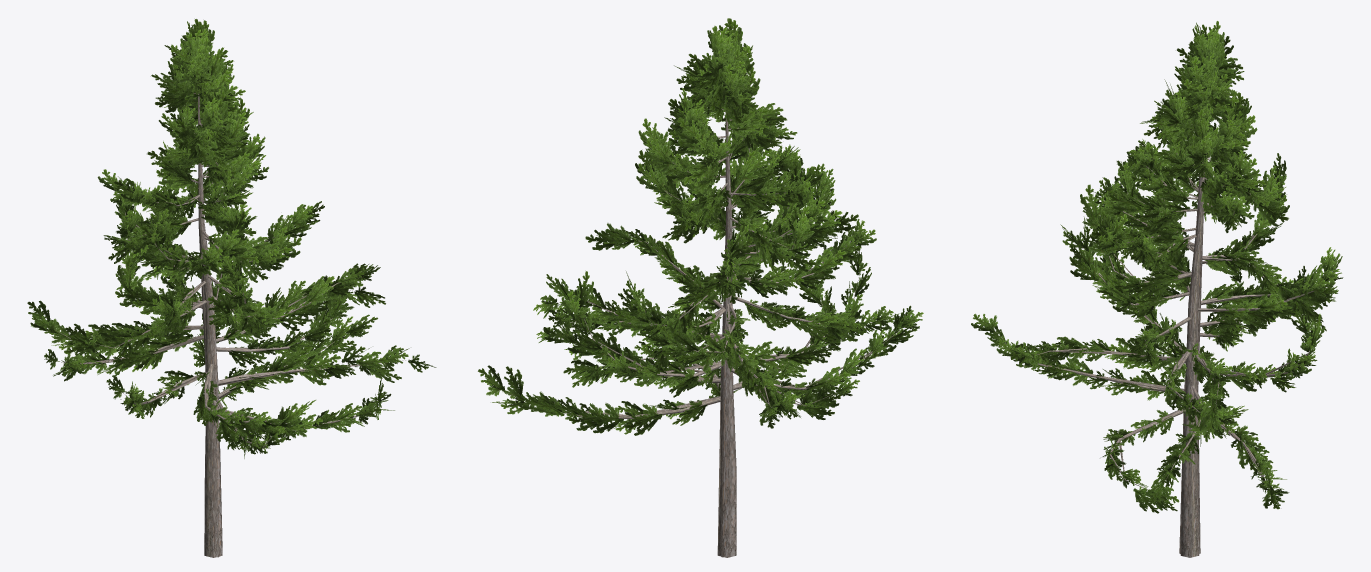
The model's file is tree_white_pine.glb.
3 renders of one model, left to right at view 1: azimuth 30°, elevation 25°; view 2: azimuth 150°, elevation 25°; view 3: azimuth 270°, elevation 25°, orthographic. The views are drawn at different scales.
Parts seen in each view (by area): view 1: LOD1_leaves, LOD0_leaves, LOD0_trunk, LOD1_trunk; view 2: LOD1_leaves, LOD0_leaves, LOD0_trunk, LOD1_trunk; view 3: LOD1_leaves, LOD0_leaves, LOD0_trunk, LOD1_trunk.
Boxes of the visible parts, x1,y1,x2,y2 form: LOD1_leaves: (27,19,436,458); LOD0_leaves: (33,29,428,453); LOD0_trunk: (54,93,405,557); LOD1_trunk: (80,93,358,557); LOD1_leaves: (478,18,923,435); LOD0_leaves: (484,28,918,434); LOD0_trunk: (508,109,901,557); LOD1_trunk: (585,103,888,557); LOD1_leaves: (971,21,1343,513); LOD0_leaves: (977,30,1338,510); LOD0_trunk: (996,153,1319,557); LOD1_trunk: (1038,124,1309,554).
Size of the model in its own units: 14.25 by 19.19 by 13.
Materials: 2 (2 with a texture image).
